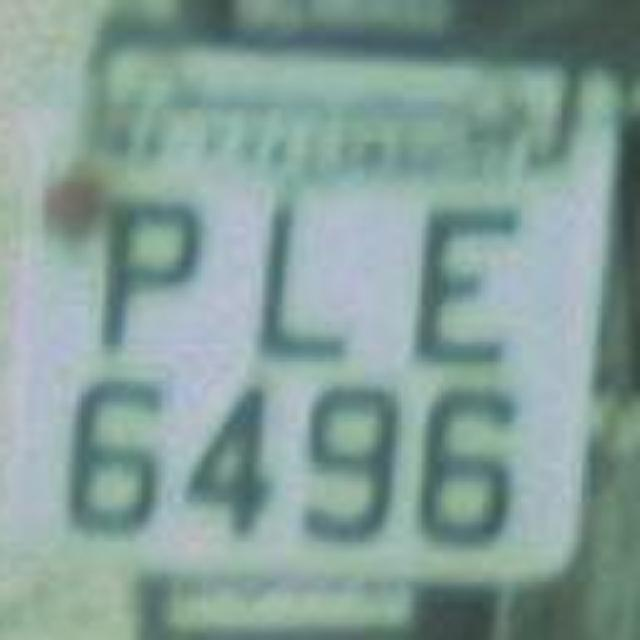4: (160, 351, 305, 564)
6: (396, 356, 552, 569), (44, 349, 188, 556)
9: (272, 352, 420, 560)
E: (392, 180, 528, 375)
J: (228, 192, 368, 372)
P: (72, 184, 208, 376)
